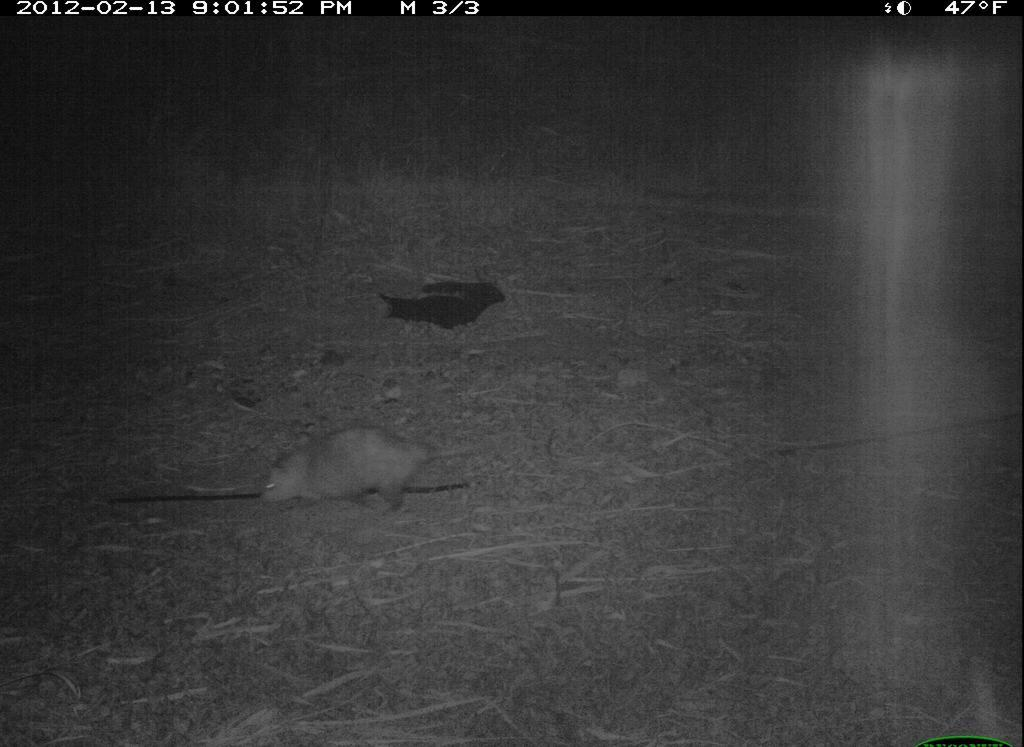opossum: (254, 422, 491, 524)
